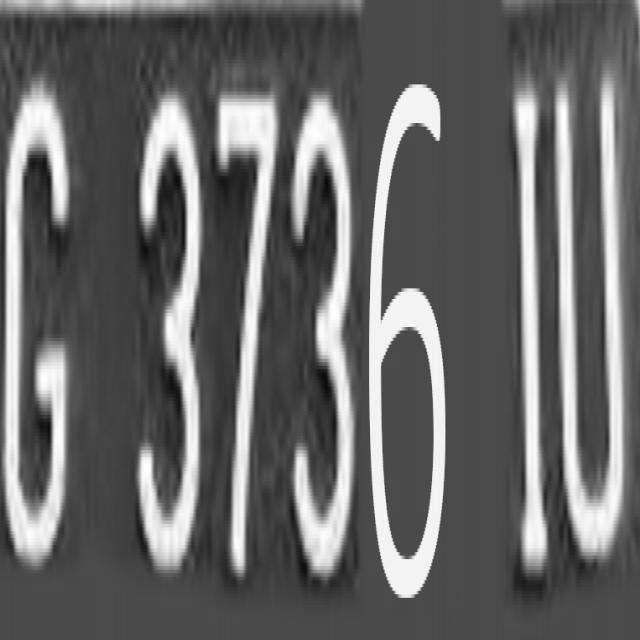3: (124, 102, 220, 576), (286, 80, 356, 606)
6: (360, 71, 460, 614)
7: (210, 83, 278, 580)
G: (0, 70, 86, 575)
I: (510, 70, 550, 608)
U: (552, 72, 640, 563)
